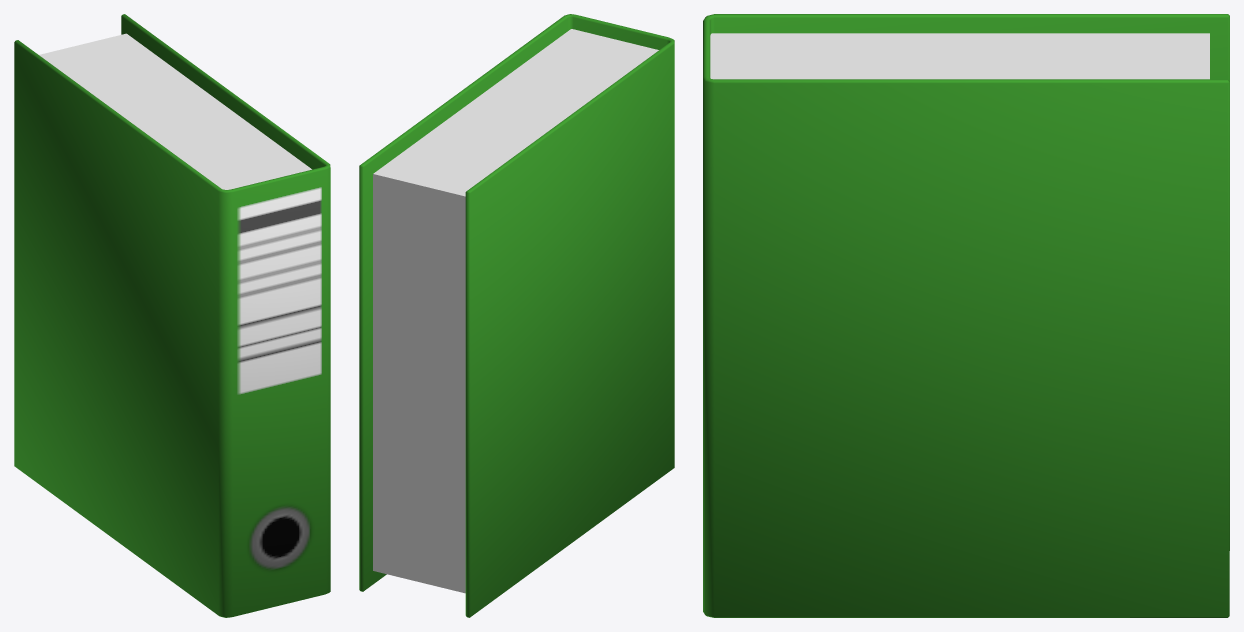
File: office folder5.FBX
The picture shows the model from 3 angles, left to right: view 1: azimuth 30°, elevation 25°; view 2: azimuth 150°, elevation 25°; view 3: azimuth 270°, elevation 25°; orthographic projection. The views are drawn at different scales.
Parts seen in each view (by area): view 1: office folder5; view 2: office folder5; view 3: office folder5.
Part boxes in pixels (left/top/right/bottom): office folder5: left=14, top=14, right=330, bottom=617; office folder5: left=359, top=14, right=674, bottom=617; office folder5: left=703, top=14, right=1229, bottom=617.
Size of the model in its own units: 2.88 by 9.36 by 10.52.
1 material, 1 textured.
